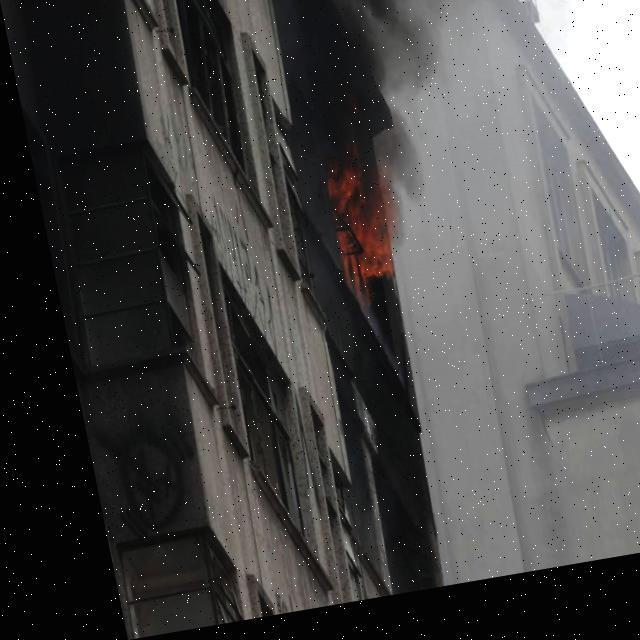Fire: (307, 148, 395, 318)
